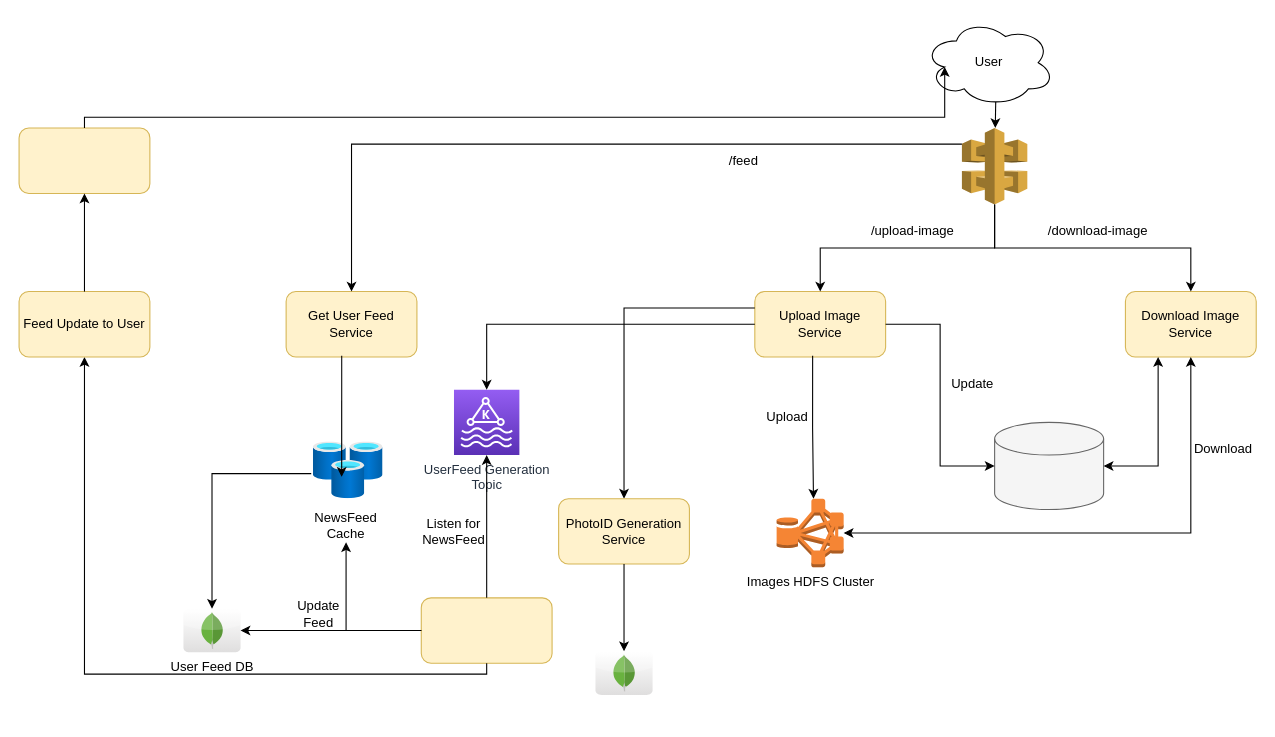
Image size: 1275x737. Some labels were removed from this diagram. Here are the shapes that lost their labels. From the top down, the centre of each, then its label:
At [84,160]: "Long Polling".
At [1049,465]: "Image Meta Data ( PostgreSQL )".
At [486,630]: "UserFeed Generation Service".
At [623,672]: "PhotoID DB".
